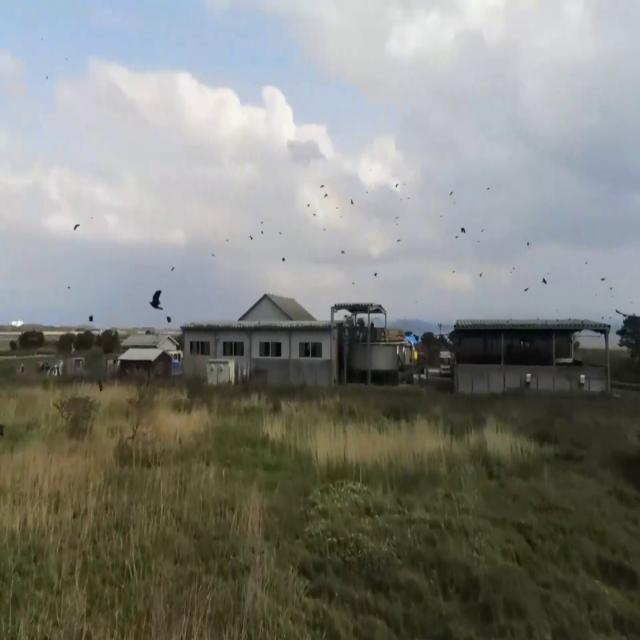bird: (149, 277, 163, 319), (73, 215, 80, 238)
